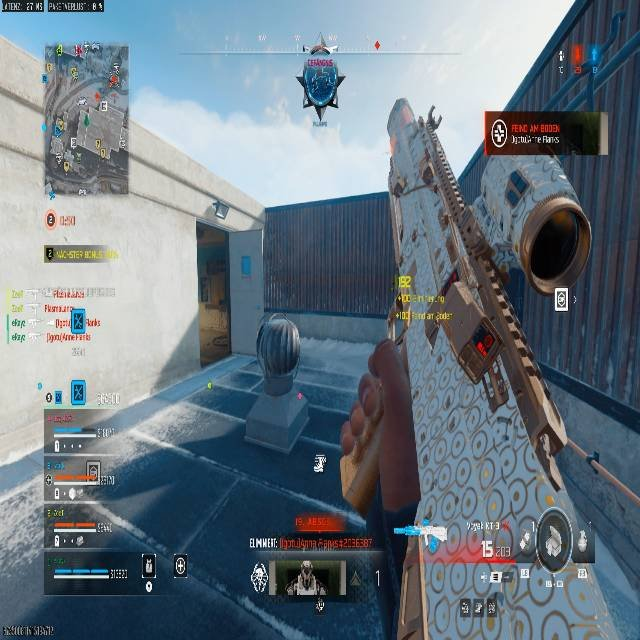player: (298, 47, 345, 125)
